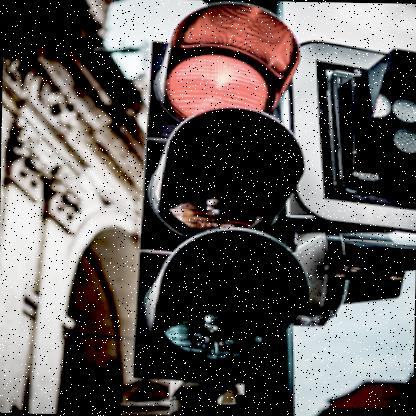trafficlight: (128, 0, 310, 384)
